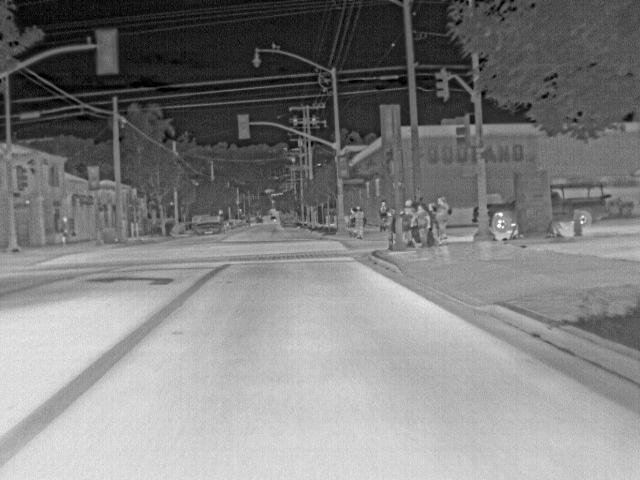car: (548, 183, 606, 228), (485, 194, 517, 232), (196, 215, 226, 235), (281, 216, 299, 228), (189, 213, 201, 230), (221, 219, 230, 230), (280, 212, 290, 221), (229, 215, 237, 226), (236, 217, 243, 227), (256, 215, 264, 223), (241, 216, 248, 225), (270, 214, 276, 221)
person: (413, 200, 431, 250), (436, 195, 452, 242), (402, 198, 413, 247), (384, 207, 395, 251), (428, 199, 439, 242), (352, 204, 365, 240), (59, 214, 71, 248), (377, 197, 386, 232), (348, 205, 355, 230)
